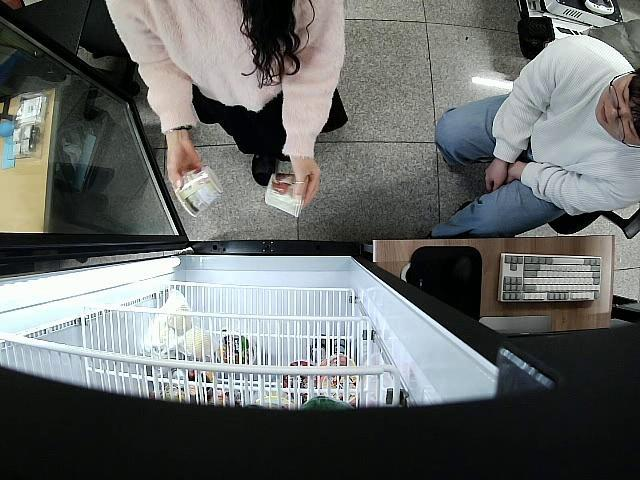04_chapagetti_S: (172, 167, 223, 216), (264, 173, 310, 220)
